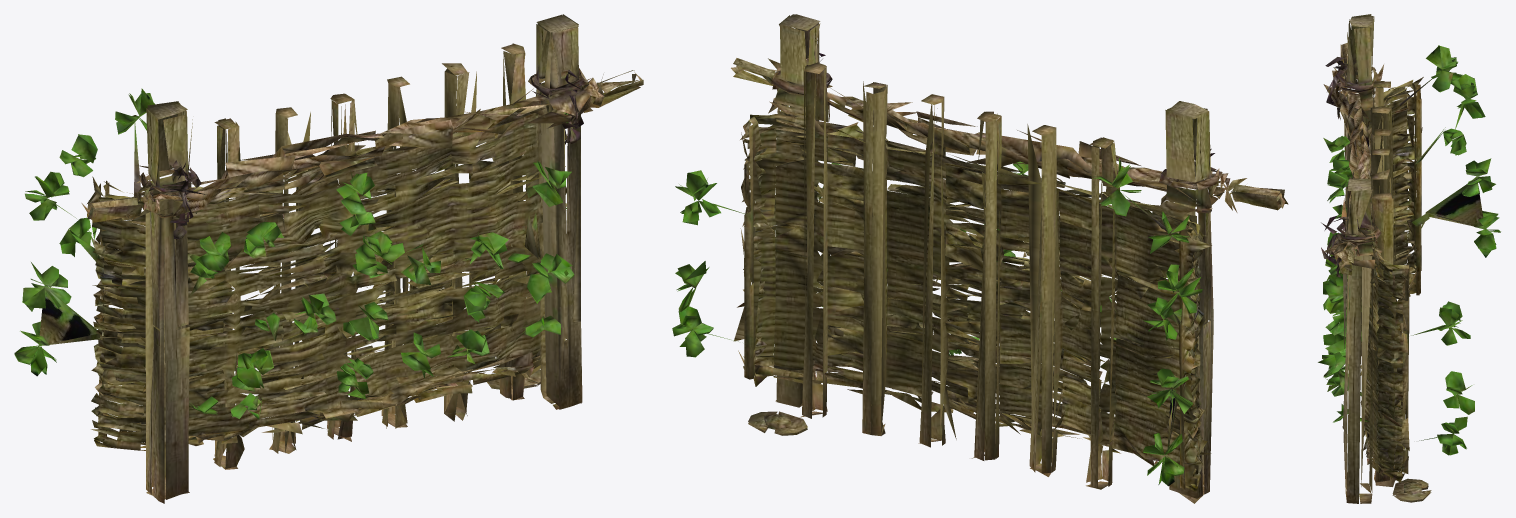
The model's file is hd_laid2.glb.
3 views of the same model, side by side, from view 1: azimuth 30°, elevation 25°; view 2: azimuth 150°, elevation 25°; view 3: azimuth 270°, elevation 25° (orthographic). The views are drawn at different scales.
Visible parts, largest first — view 1: hd_laid2; view 2: hd_laid2; view 3: hd_laid2.
Boxes of the visible parts, x1,y1,x2,y2 form: hd_laid2: (14, 14, 643, 503); hd_laid2: (672, 14, 1288, 503); hd_laid2: (1318, 14, 1500, 503).
Size of the model in its own units: 2.01 by 1.36 by 0.7029.
Materials: 1 (1 with a texture image).
